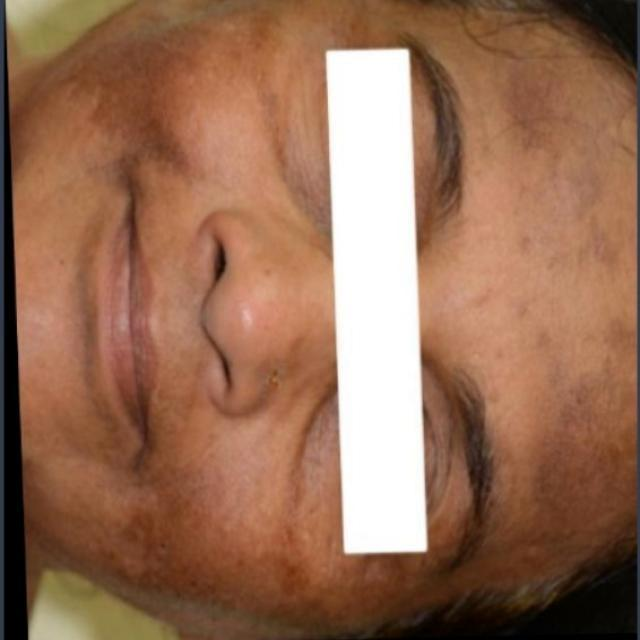Melasma: (491, 36, 639, 538), (94, 470, 337, 625), (66, 0, 228, 191)
